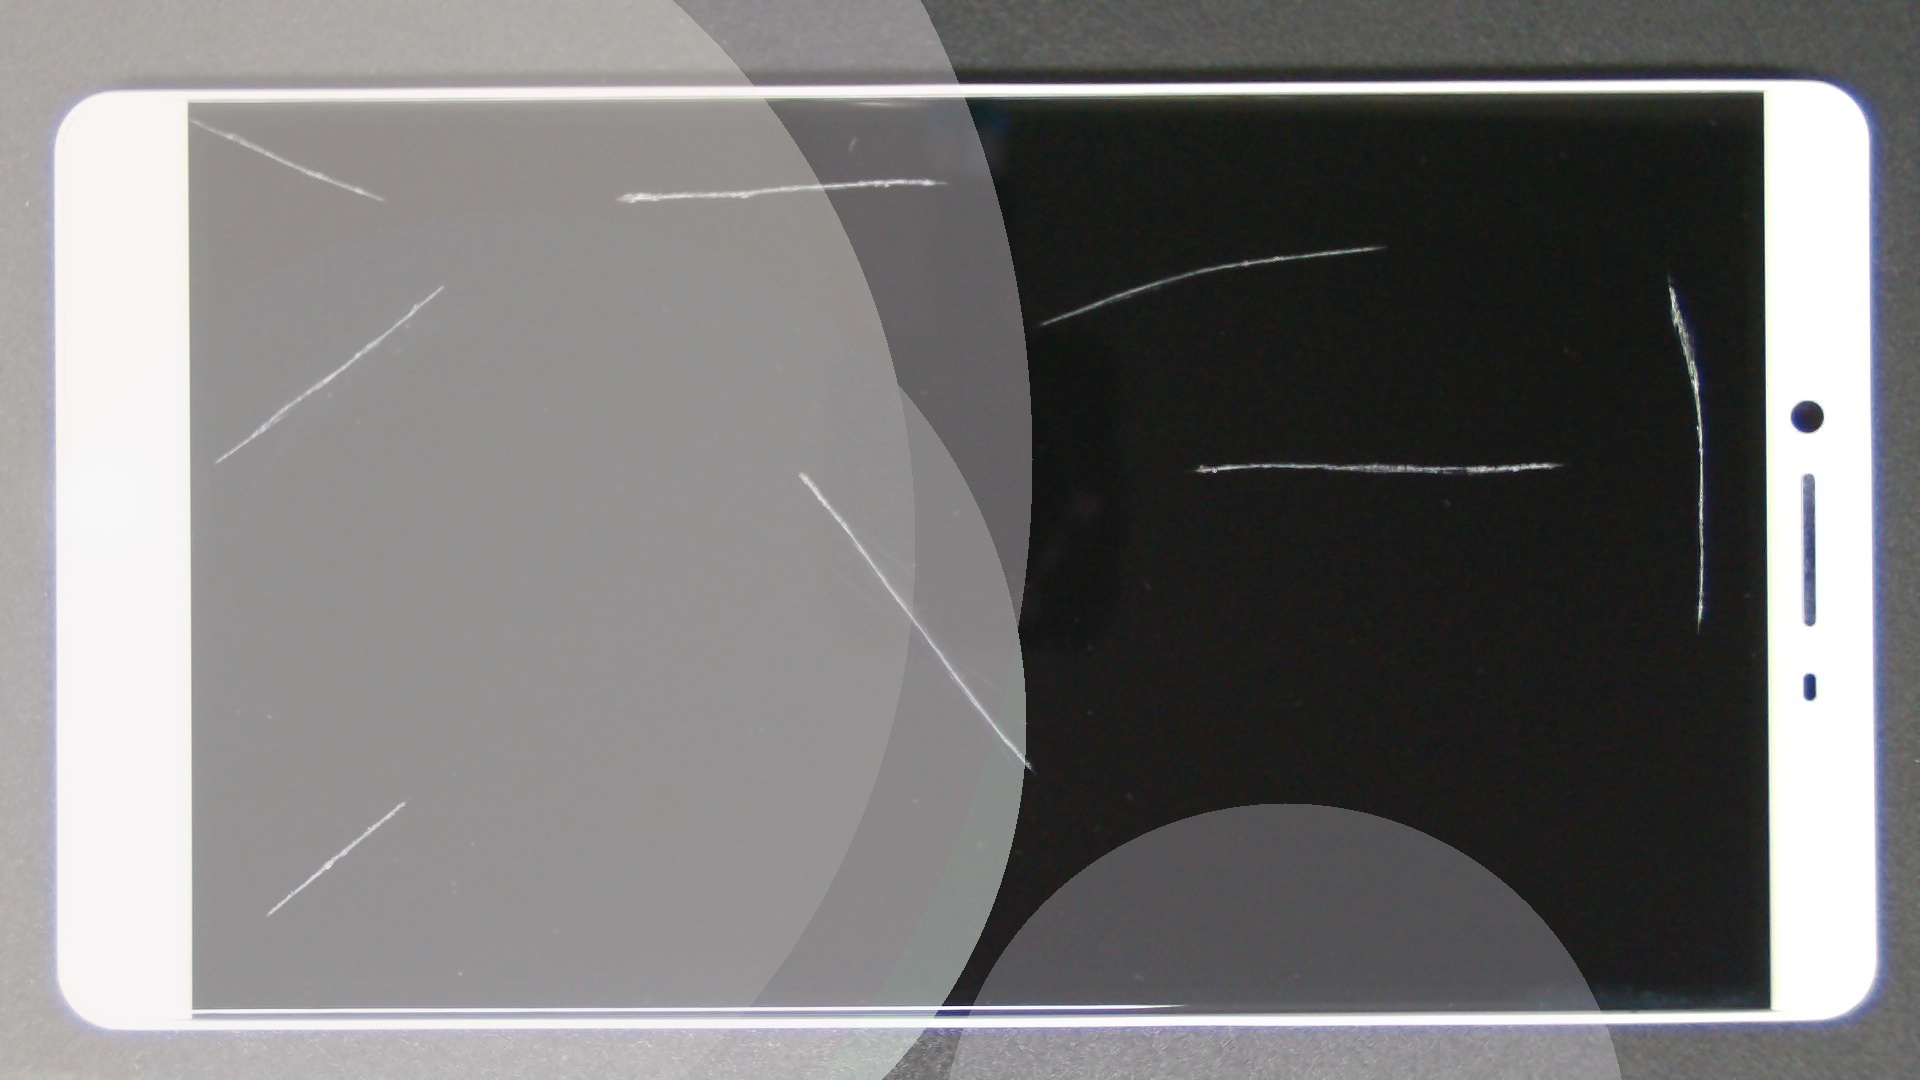oil: (640, 229, 1915, 692), (401, 235, 1200, 708), (833, 129, 1920, 417), (684, 123, 1920, 369), (203, 400, 608, 1080), (447, 88, 1341, 266), (225, 137, 658, 429), (95, 58, 285, 178)
